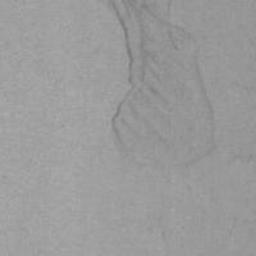Water spot: (90, 0, 221, 166)
